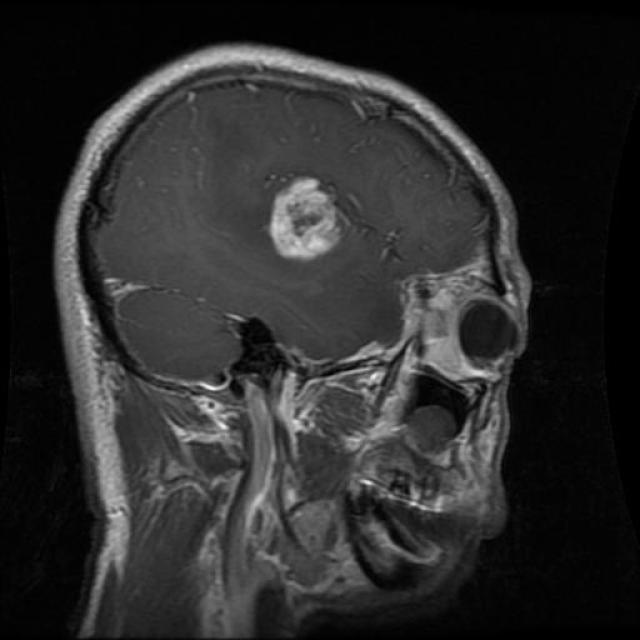glioma: (266, 171, 352, 260)
